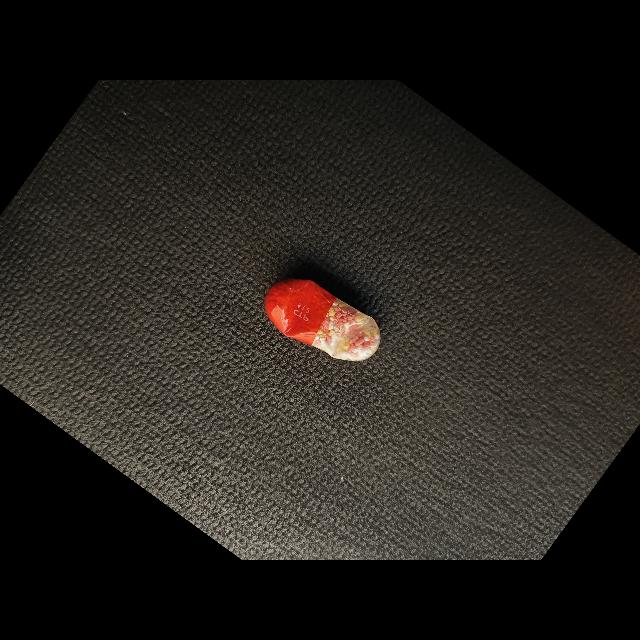Defective Capsule: (265, 279, 381, 362)
